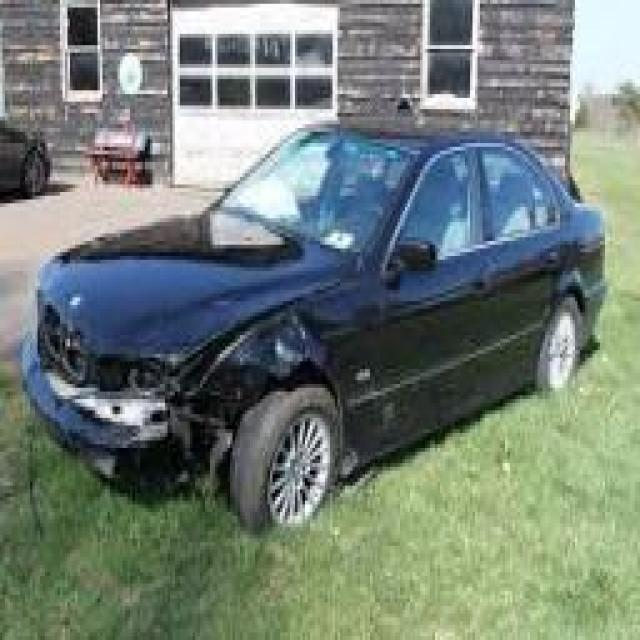Bumper: (39, 383, 199, 486)
Fender: (191, 292, 329, 487)
Light: (104, 365, 193, 405)
